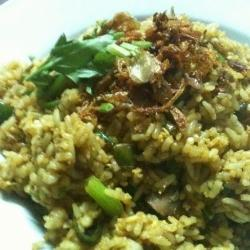rice: (30, 58, 237, 232)
